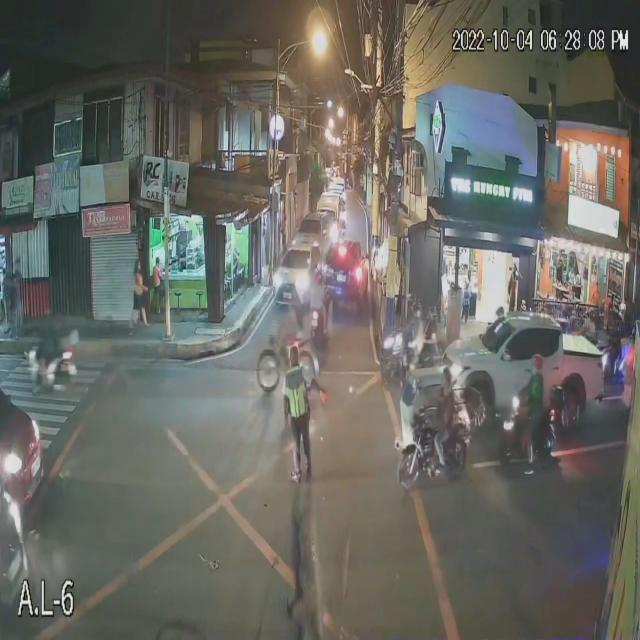Full-Faced: (528, 352, 544, 384), (411, 298, 424, 323), (314, 270, 326, 286)
Not-Wearing-Helmet: (442, 365, 452, 390)
